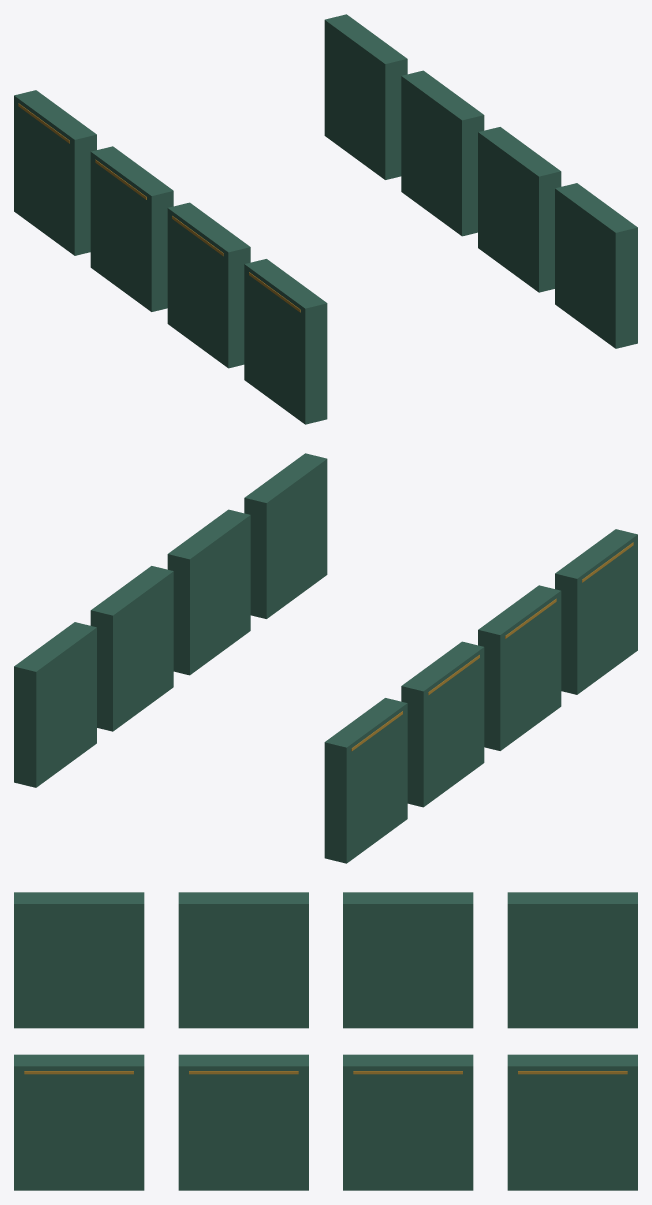
Rendered from vls8_cell_thermal.obj.
3 views of the same model, one above another, from view 1: azimuth 30°, elevation 25°; view 2: azimuth 150°, elevation 25°; view 3: azimuth 270°, elevation 25° (orthographic). The views are drawn at different scales.
Parts seen in each view (by area): view 1: vls8_cell_thermal; view 2: vls8_cell_thermal; view 3: vls8_cell_thermal.
Boxes of the visible parts, left/top/right/bottom form: vls8_cell_thermal: left=14, top=14, right=637, bottom=424; vls8_cell_thermal: left=14, top=453, right=637, bottom=863; vls8_cell_thermal: left=14, top=892, right=637, bottom=1190.
Bounding box in the file's own units: 3.01 × 1 × 4.55.
